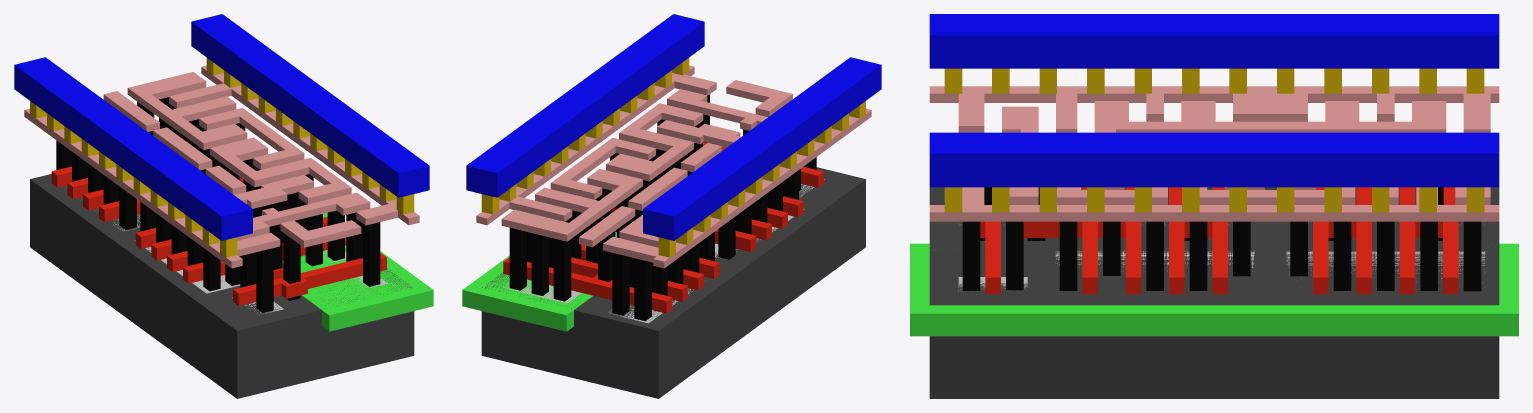
The model's file is sky130_fd_sc_hd__nor4b_2.obj.
3 views of the same model, side by side, from view 1: azimuth 30°, elevation 25°; view 2: azimuth 150°, elevation 25°; view 3: azimuth 270°, elevation 25° (orthographic). The views are drawn at different scales.
Visible parts, largest first — view 1: subs, metal1, li, licon, poly, nwell, mcon, diff; view 2: subs, metal1, li, licon, poly, mcon, nwell, diff, tap; view 3: metal1, subs, li, nwell, licon, poly, mcon, tap.
Part boxes in pixels (x1=…): subs: x1=30, y1=174, x2=414, y2=398; metal1: x1=14, y1=14, x2=429, y2=240; li: x1=24, y1=65, x2=419, y2=268; licon: x1=56, y1=97, x2=380, y2=312; poly: x1=51, y1=166, x2=386, y2=305; nwell: x1=282, y1=212, x2=433, y2=331; mcon: x1=30, y1=58, x2=414, y2=257; diff: x1=66, y1=188, x2=283, y2=313; subs: x1=481, y1=146, x2=865, y2=398; metal1: x1=466, y1=14, x2=881, y2=240; li: x1=476, y1=65, x2=871, y2=268; licon: x1=509, y1=94, x2=816, y2=321; poly: x1=503, y1=142, x2=823, y2=313; mcon: x1=481, y1=58, x2=865, y2=257; nwell: x1=462, y1=231, x2=616, y2=331; diff: x1=610, y1=179, x2=824, y2=323; tap: x1=503, y1=232, x2=616, y2=303; metal1: x1=929, y1=14, x2=1499, y2=187; subs: x1=929, y1=187, x2=1499, y2=398; li: x1=929, y1=86, x2=1499, y2=221; nwell: x1=910, y1=243, x2=1518, y2=336; licon: x1=962, y1=187, x2=1481, y2=291; poly: x1=980, y1=187, x2=1458, y2=294; mcon: x1=944, y1=68, x2=1484, y2=212; tap: x1=958, y1=251, x2=1485, y2=290.
Size of the model in its own units: 3.2 by 2.74 by 5.9.
